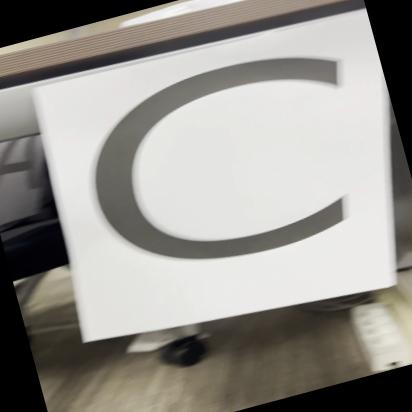seat: (45, 19, 394, 339)
